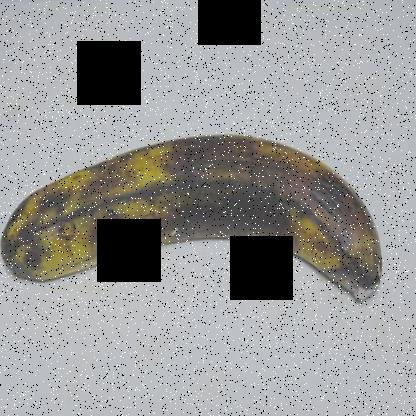overripe: (0, 106, 403, 346)
